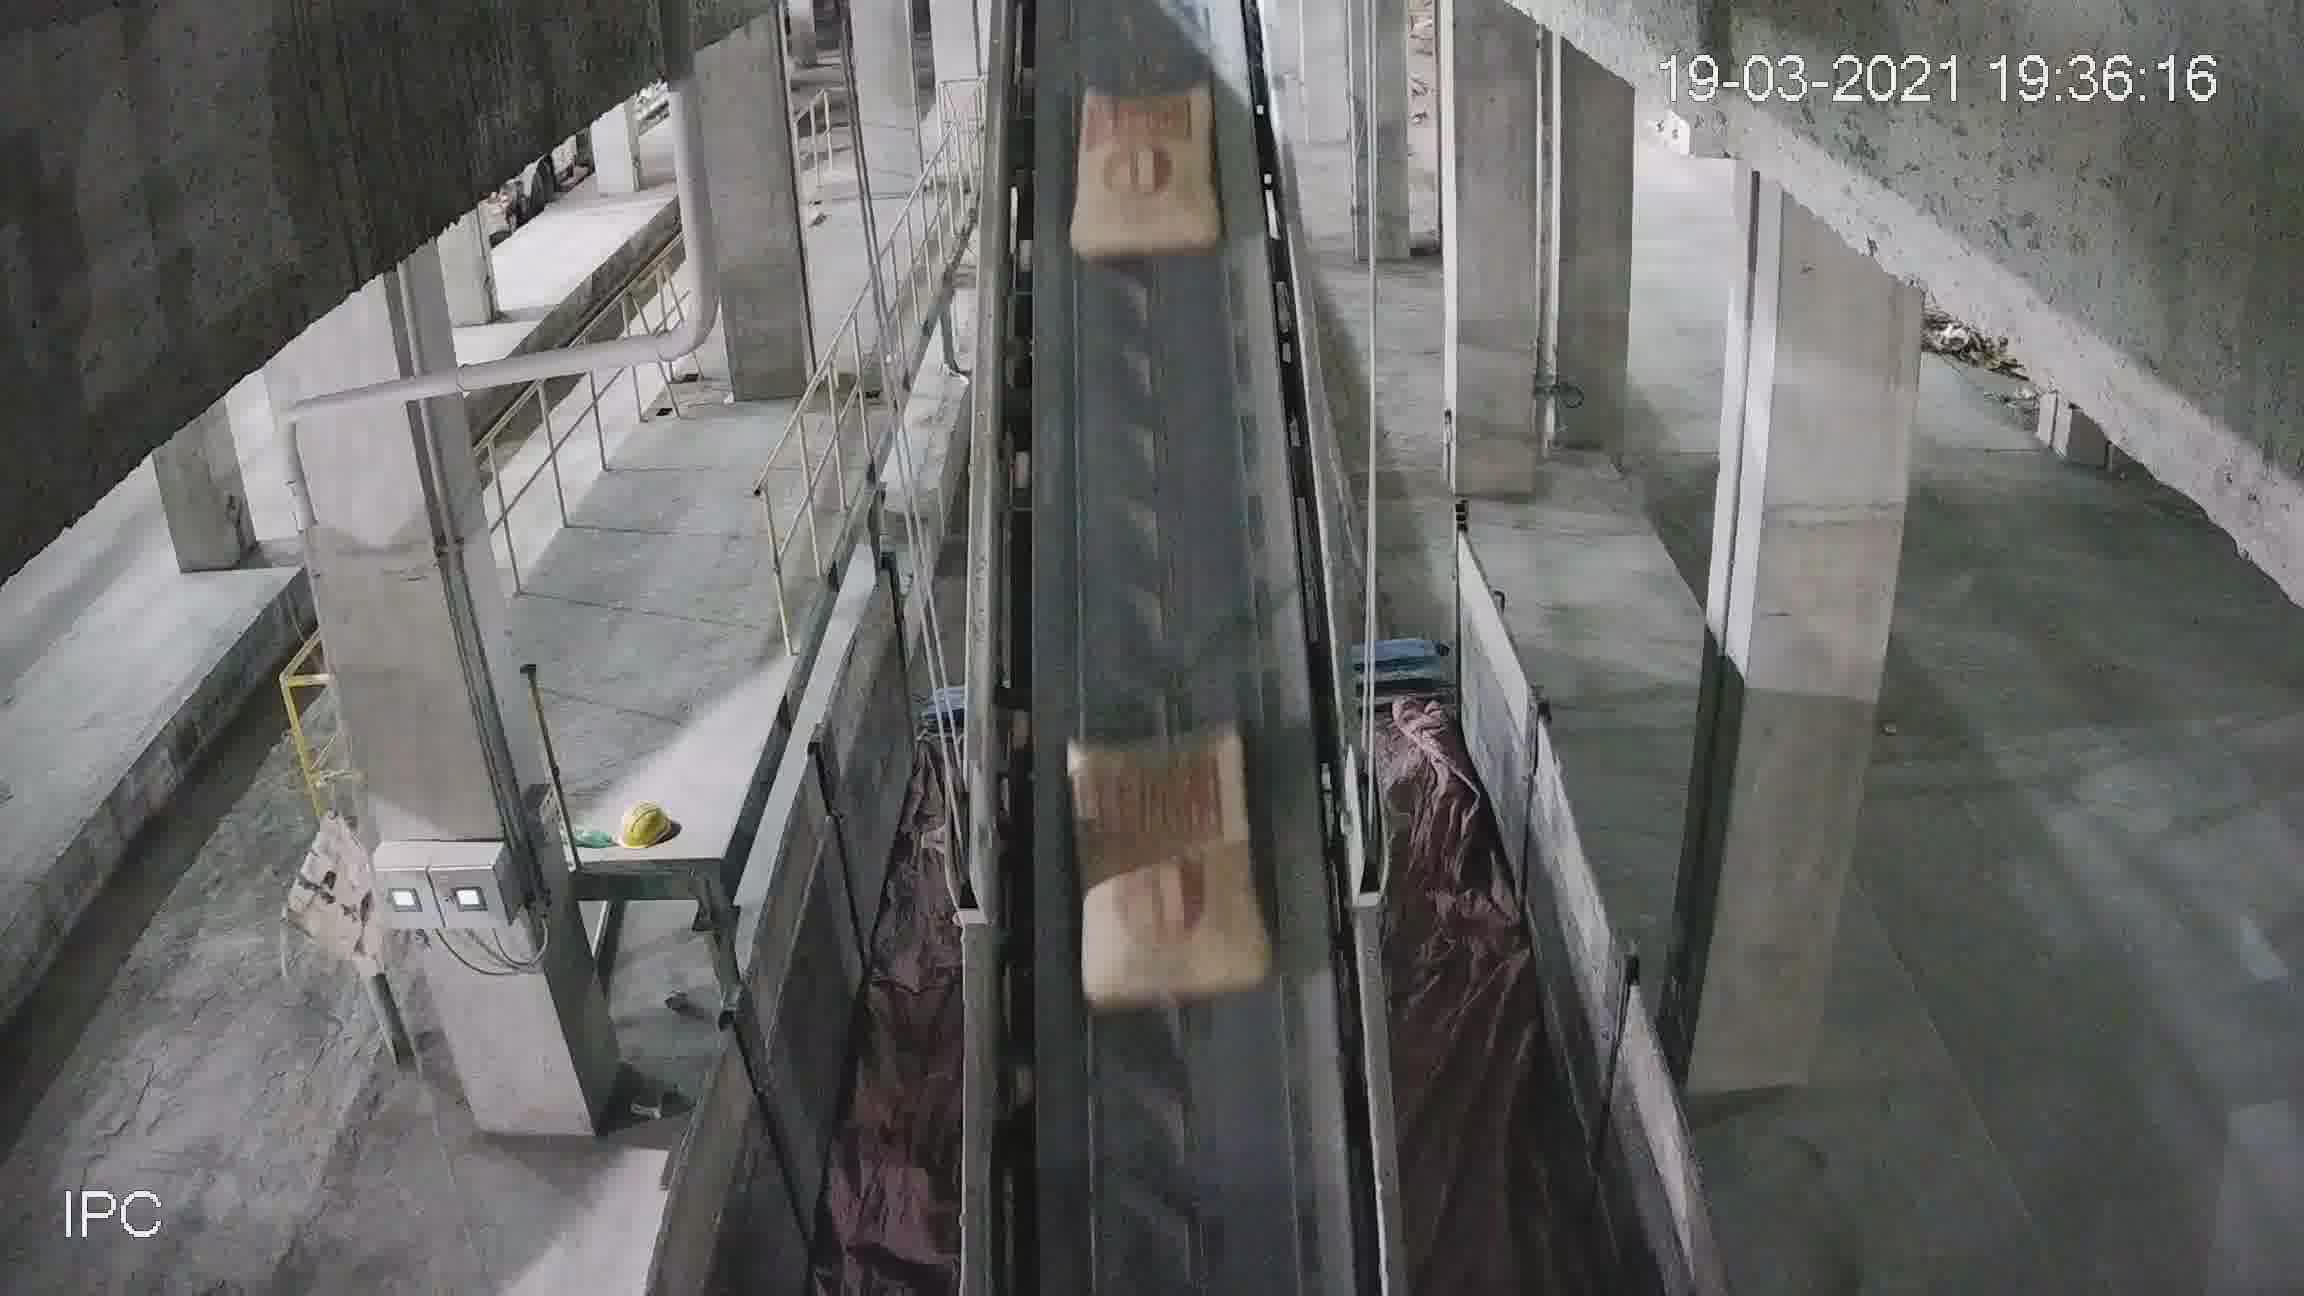bag: (1084, 744, 1271, 1006), (1071, 95, 1218, 255)
belt: (968, 127, 1367, 1260)
